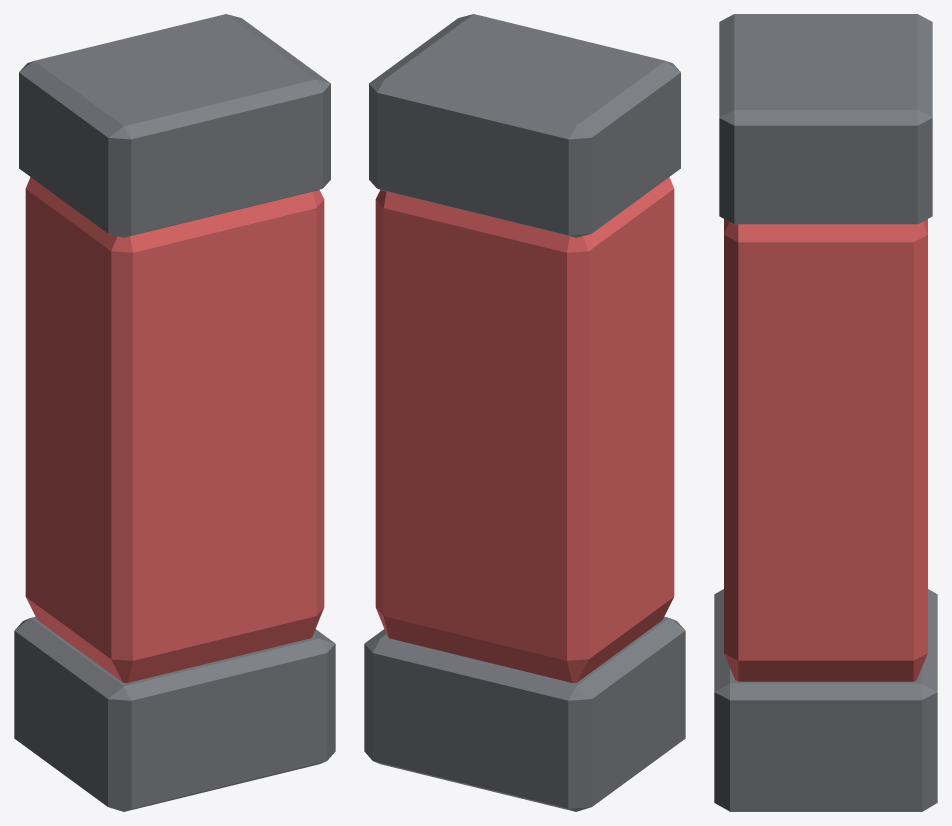
The model's file is b05_breakaway_barrel_hydrant.glb.
3 views of the same model, side by side, from view 1: azimuth 30°, elevation 25°; view 2: azimuth 150°, elevation 25°; view 3: azimuth 270°, elevation 25° (orthographic). The views are drawn at different scales.
Visible parts, largest first — view 1: b05_breakaway_barrel_hydrant; view 2: b05_breakaway_barrel_hydrant; view 3: b05_breakaway_barrel_hydrant.
Boxes of the visible parts, x1,y1,x2,y2 form: b05_breakaway_barrel_hydrant: (14, 14, 335, 811); b05_breakaway_barrel_hydrant: (364, 14, 685, 811); b05_breakaway_barrel_hydrant: (714, 14, 937, 811).
Size of the model in its own units: 0.58 by 1.67 by 0.48.
